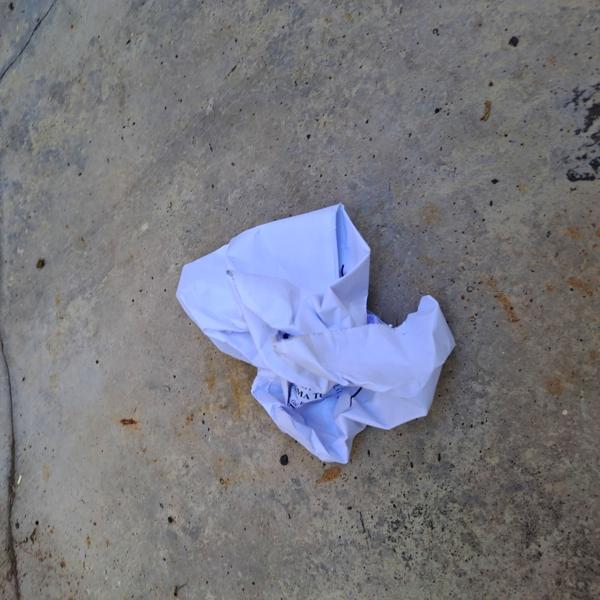Organik: (166, 201, 471, 469)
